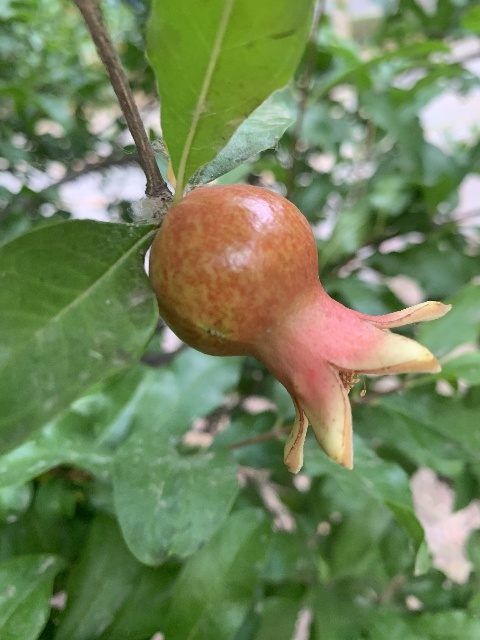early-fruit: (153, 183, 447, 475)
